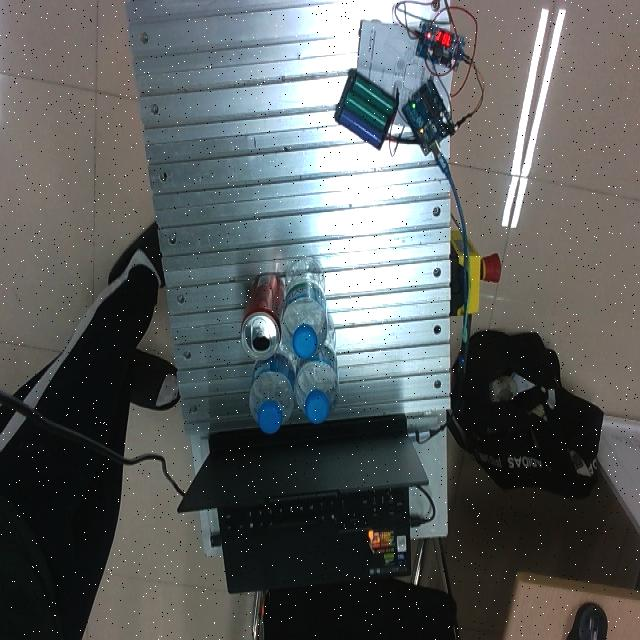coca: (241, 274, 285, 362)
lavie: (294, 313, 340, 424), (282, 257, 329, 360), (249, 345, 297, 435)
